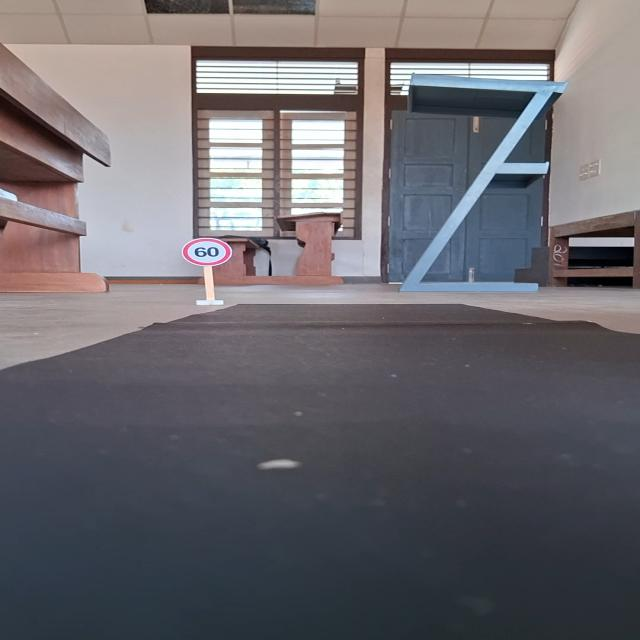Speed60: (180, 235, 235, 268)
